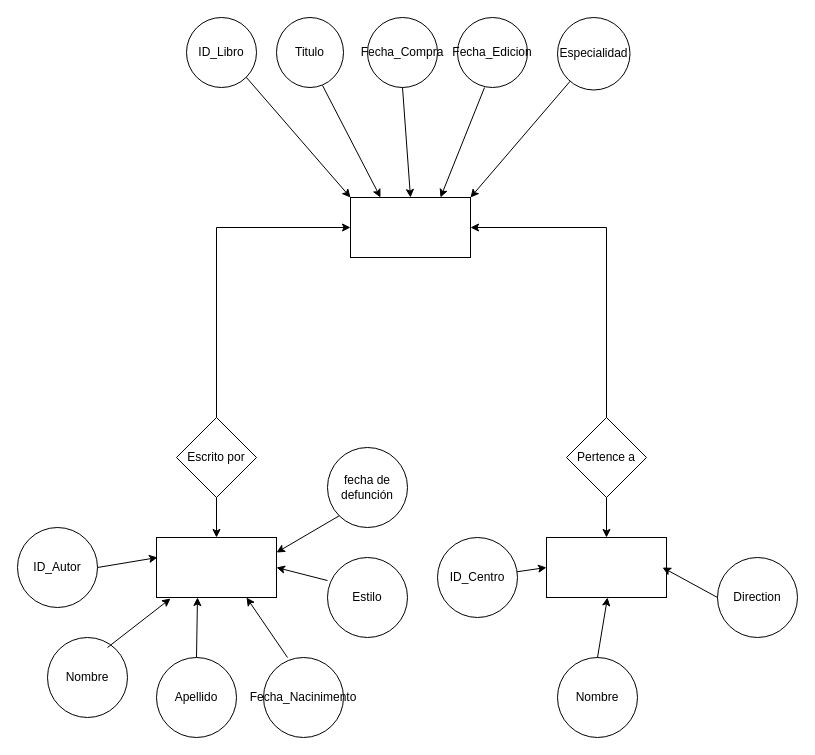
The diagram is 815 pixels wide and 755 high, and some of its shapes have lost their labels. Each missing label, with the centre of its shape:
"Autores" belongs at point 216,567.
"Centro" belongs at point 606,567.
"Libros" belongs at point 410,227.
